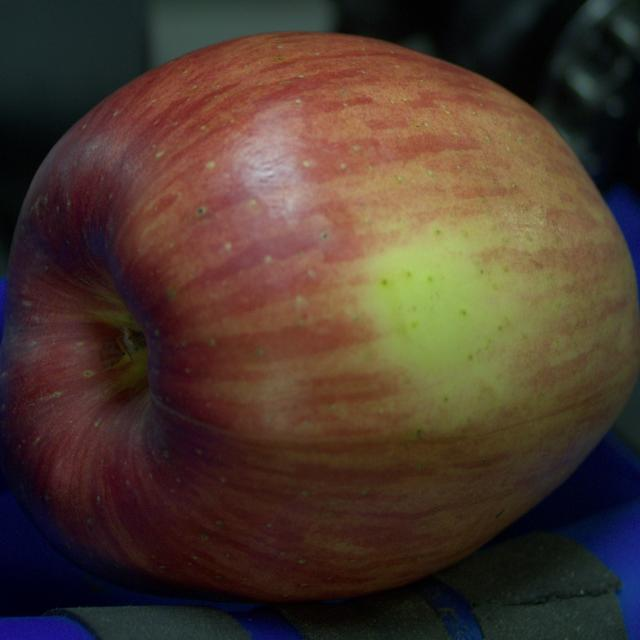apple: (0, 33, 639, 602)
bruise: (100, 340, 122, 367)
scratch: (105, 335, 133, 372)
